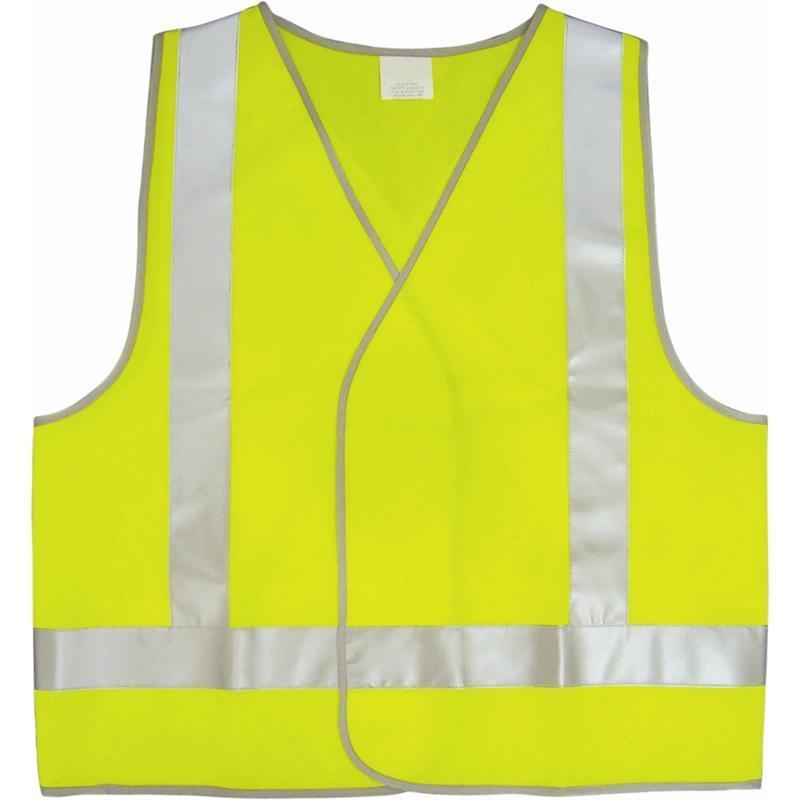vest: (24, 0, 771, 794)
